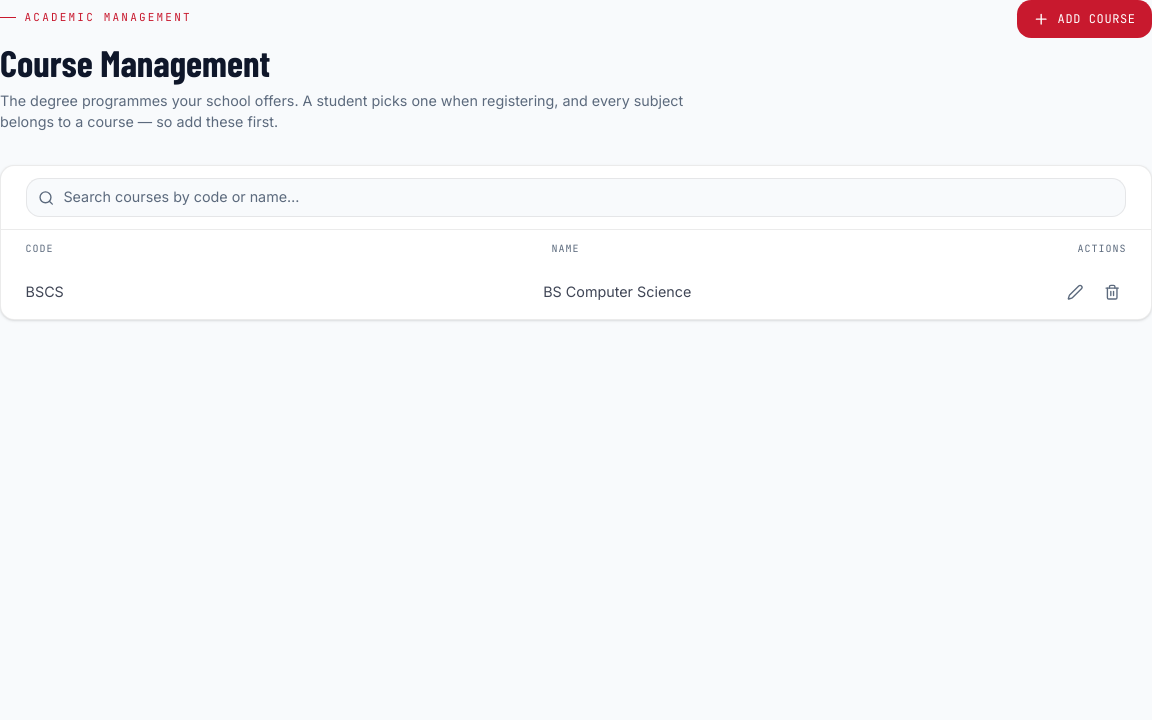
Test: Courses — a row answers what it is › opens the details when the row is clicked
Click the text "BS Computer Science": {"x": 617, "y": 292} 543,283 -> 691,300
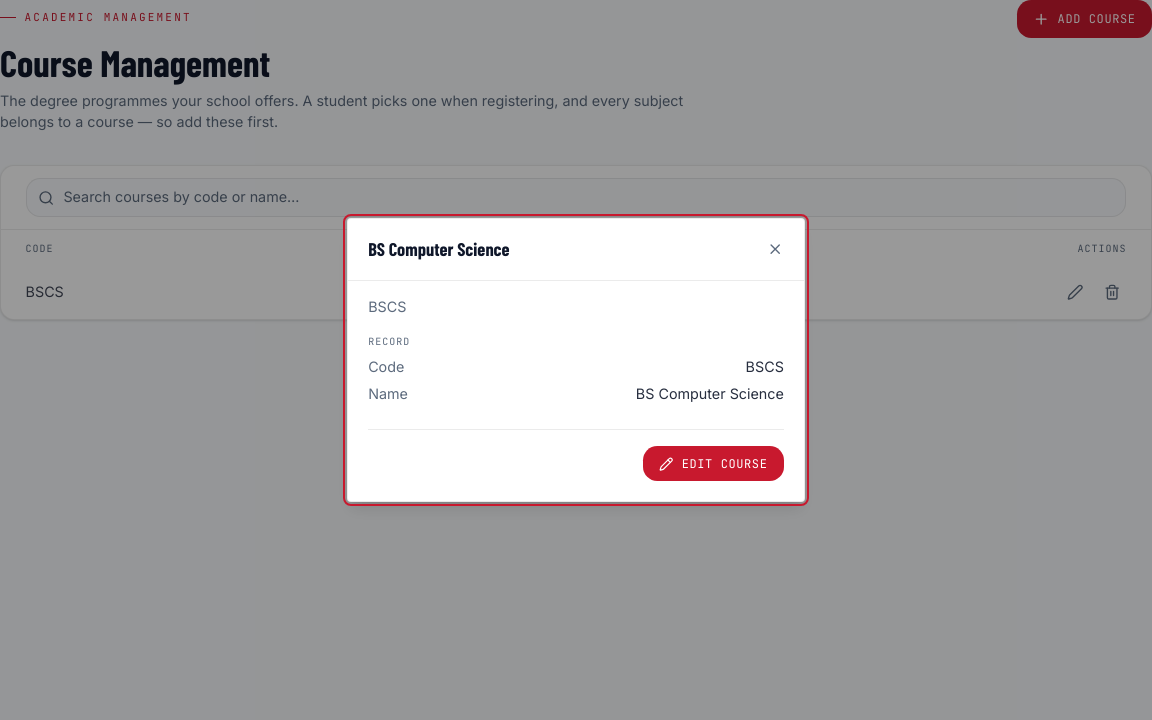
Expected: the dialog shows "BSCS", 368,298 -> 406,315
